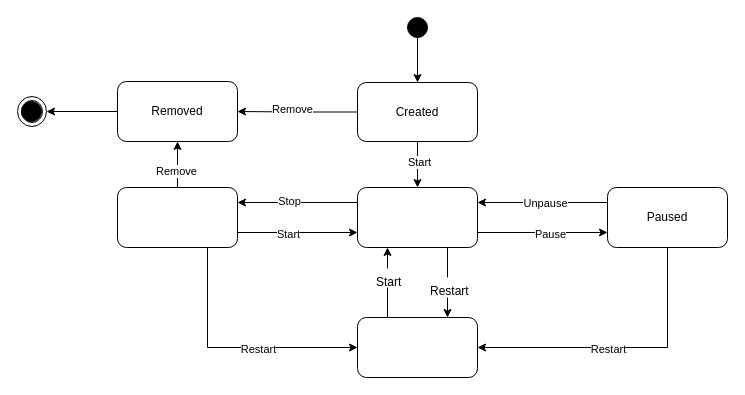
The diagram is 745 pixels wide and 395 high, and some of its shapes have lost their labels. The shapes that lost their labels are listed below. From the top down, each one's centre as x and y in pixels, then its label:
At point 177,217: "Stopped".
At point 417,217: "Running".
At point 417,347: "Restarting".
